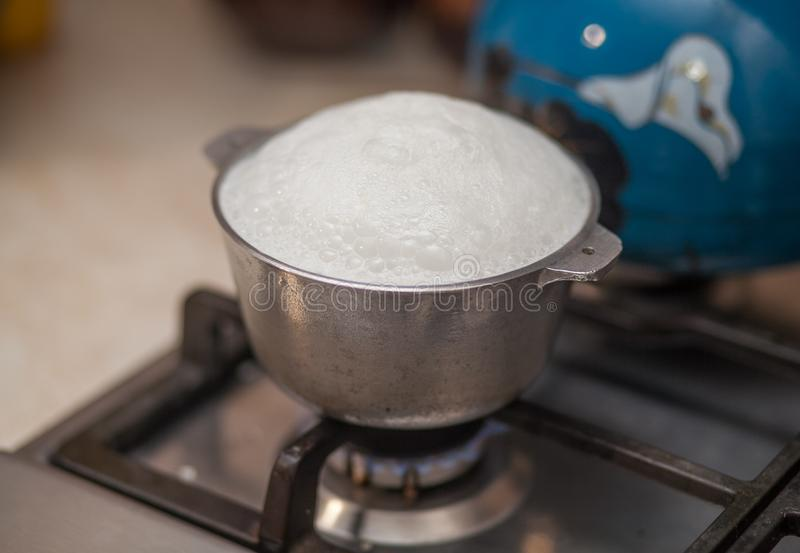Boiled: (196, 83, 642, 433)
